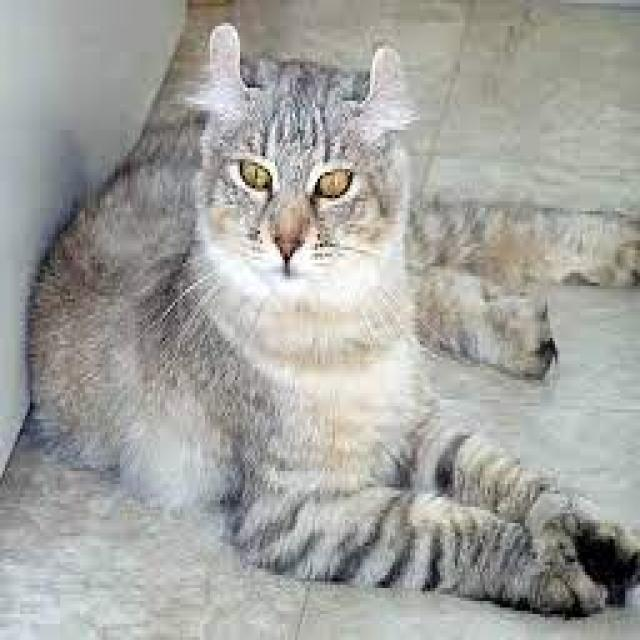Cat: (20, 19, 640, 620)
